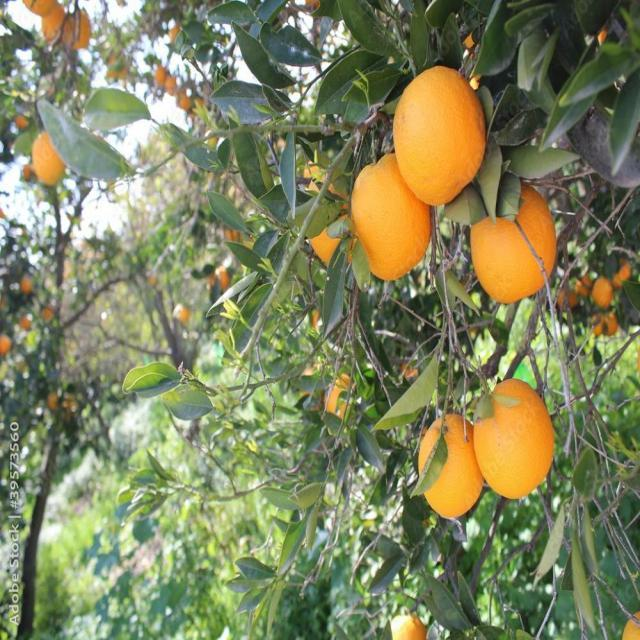Jeruk Sudah Matang: (392, 61, 490, 208), (471, 179, 559, 307), (353, 154, 435, 286), (474, 377, 556, 495), (419, 412, 482, 518), (300, 219, 348, 263), (326, 376, 350, 423), (391, 612, 431, 639)
